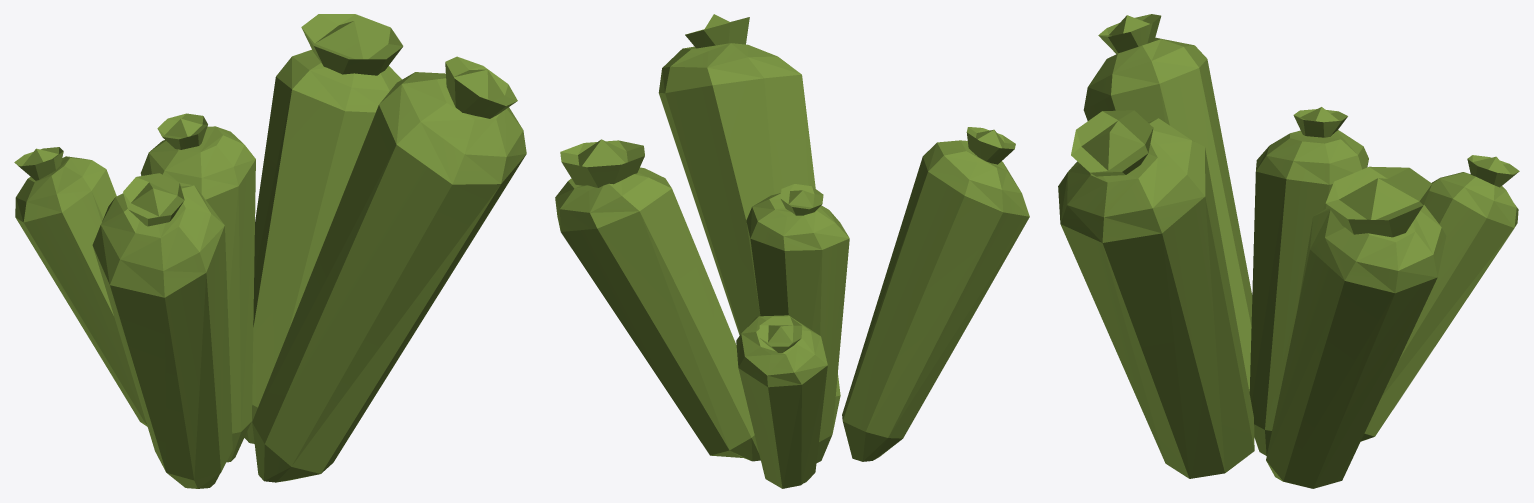
File: 07 Desert_plants.FBX
The picture shows the model from 3 angles, left to right: view 1: azimuth 30°, elevation 25°; view 2: azimuth 150°, elevation 25°; view 3: azimuth 270°, elevation 25°; orthographic projection. The views are drawn at different scales.
Parts seen in each view (by area): view 1: Plant11; view 2: Plant11; view 3: Plant11.
Part boxes in pixels (<box>): Plant11: <box>14,14,526,488</box>; Plant11: <box>555,14,1029,488</box>; Plant11: <box>1058,14,1519,488</box>.
Bounding box in the file's own units: 488 × 465 × 465.
